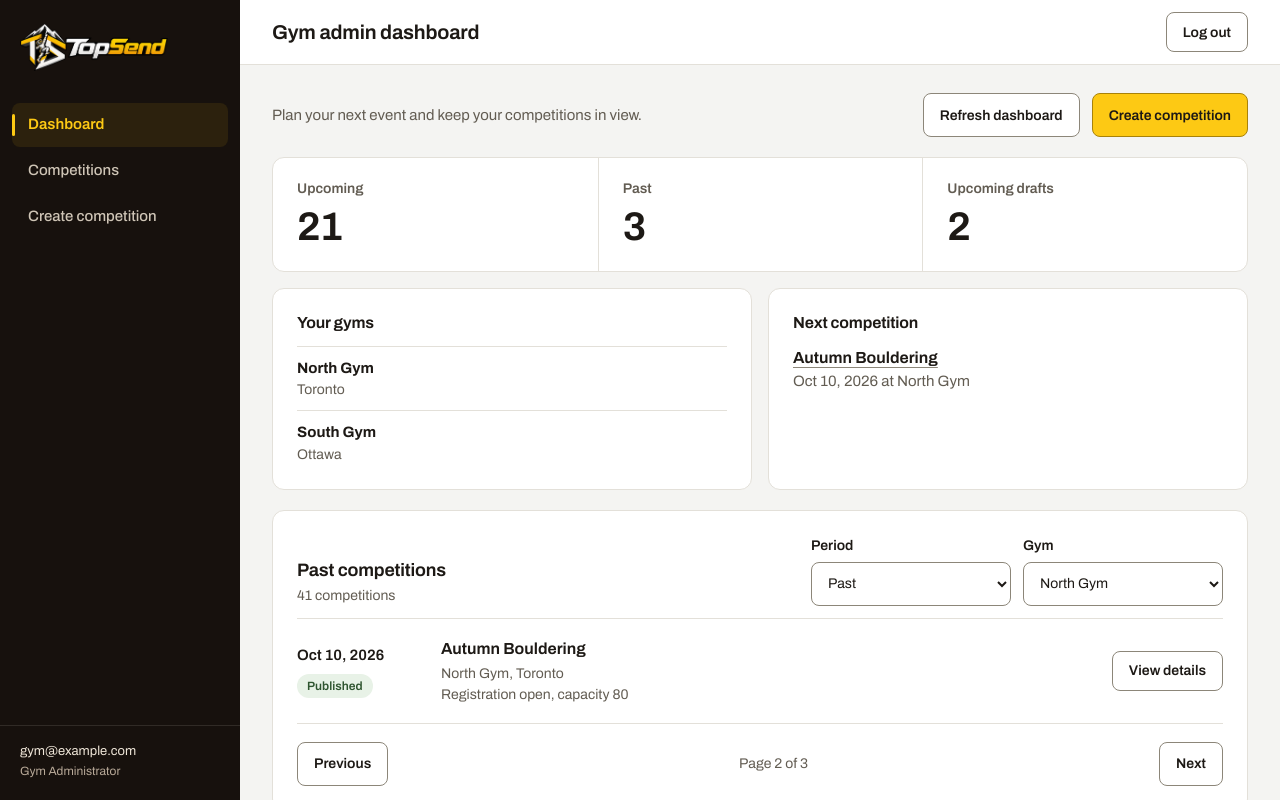
Test case: US-011 #42/#43 gym administrator dashboard › preserves URL period, gym and page through selection and return
Click the link with aria-label "View details for Autumn Bouldering" at [1167, 671], box [1112,651,1223,691]
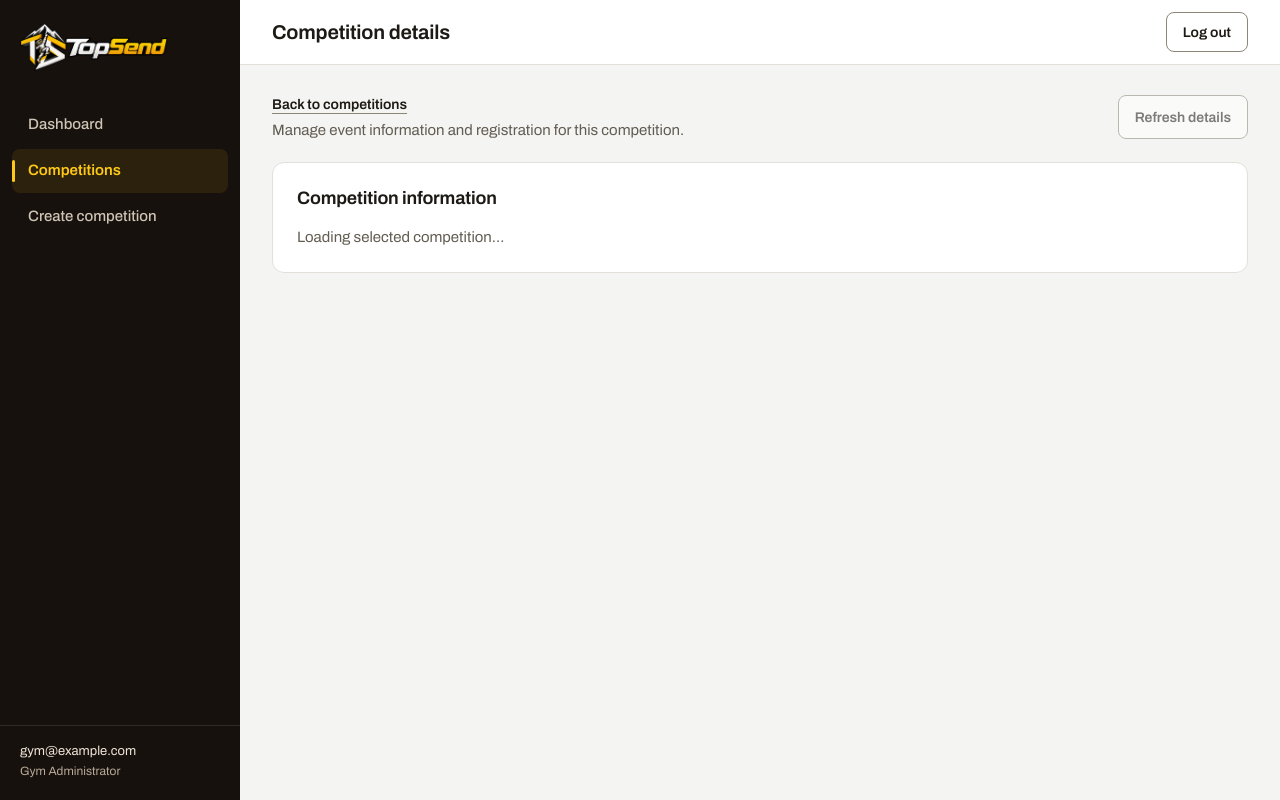
Expected: the element "selected competition" is shown, [272,162,1248,273]
Click the link "Back to competitions" at [340, 104], box [272,94,407,115]
(page scrolled)
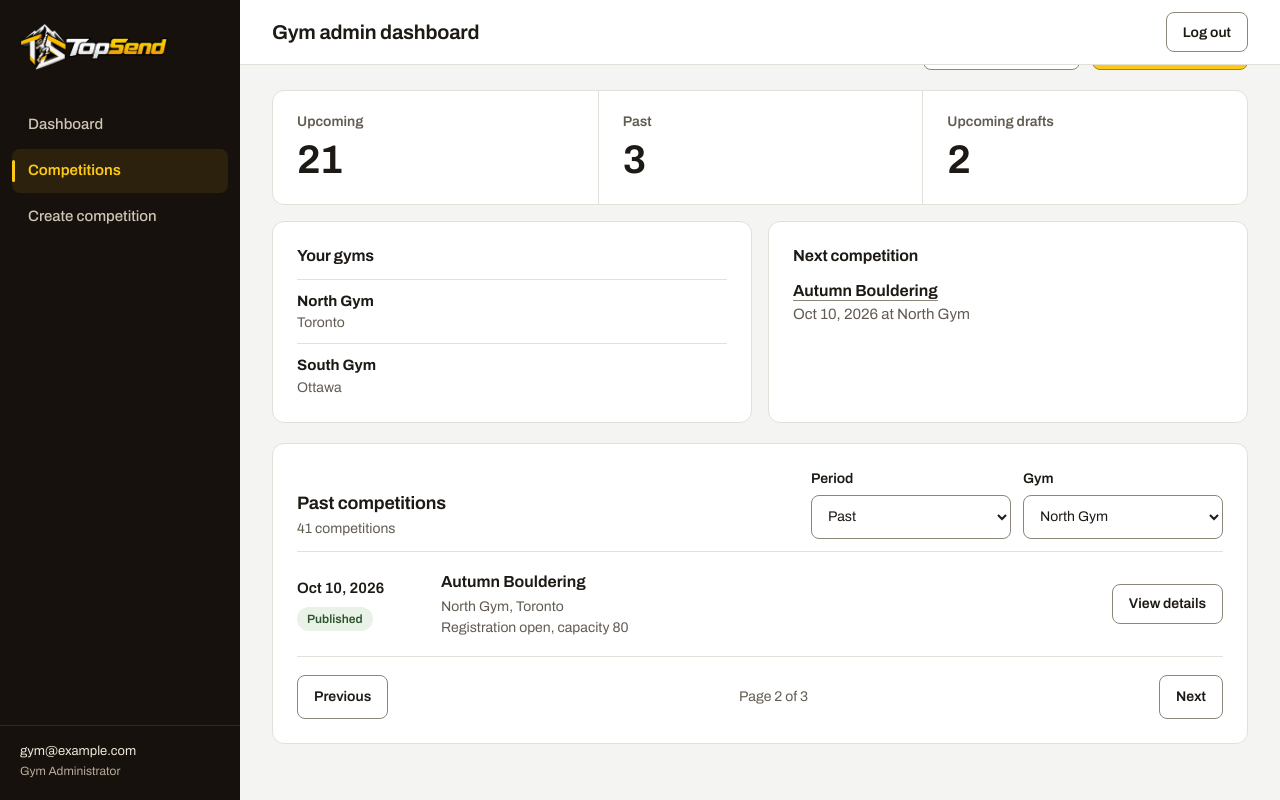
Expected: the element "Past competitions" is shown, [272,443,1248,744]
Expected: the dropdown labelled "Period" shows "Past", [811,495,1011,539]
Expected: the dropdown labelled "Gym" shows "North Gym", [1023,495,1223,539]
